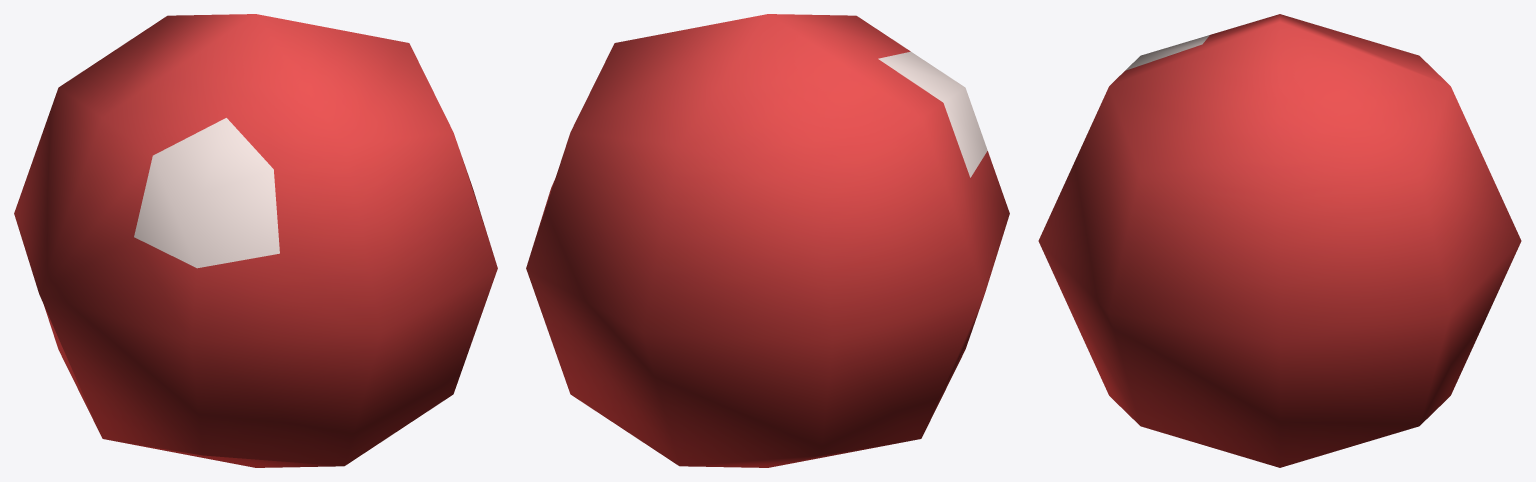
The model's file is ClownNose_Prop.fbx.
3 renders of one model, left to right at view 1: azimuth 30°, elevation 25°; view 2: azimuth 150°, elevation 25°; view 3: azimuth 270°, elevation 25°, orthographic. The views are drawn at different scales.
Parts seen in each view (by area): view 1: Props_ClownNose; view 2: Props_ClownNose; view 3: Props_ClownNose.
Part boxes in pixels (left/top/right/bottom): Props_ClownNose: left=14, top=14, right=497, bottom=467; Props_ClownNose: left=526, top=14, right=1009, bottom=467; Props_ClownNose: left=1038, top=14, right=1521, bottom=467.
Size of the model in its own units: 23.52 by 23.52 by 23.52.
